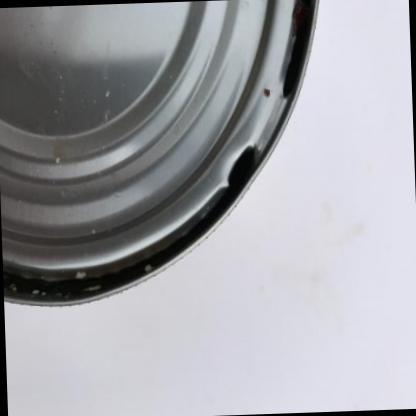Metal: (0, 0, 318, 305)
